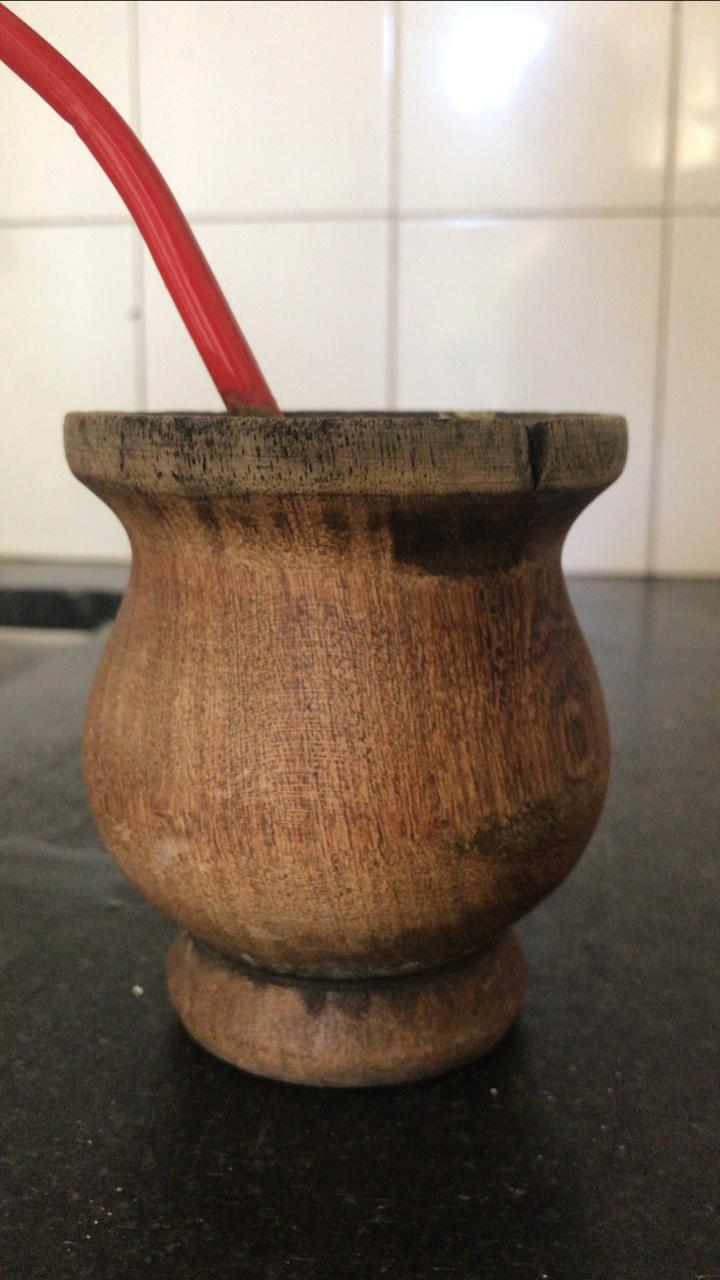mate: (56, 401, 639, 1095)
